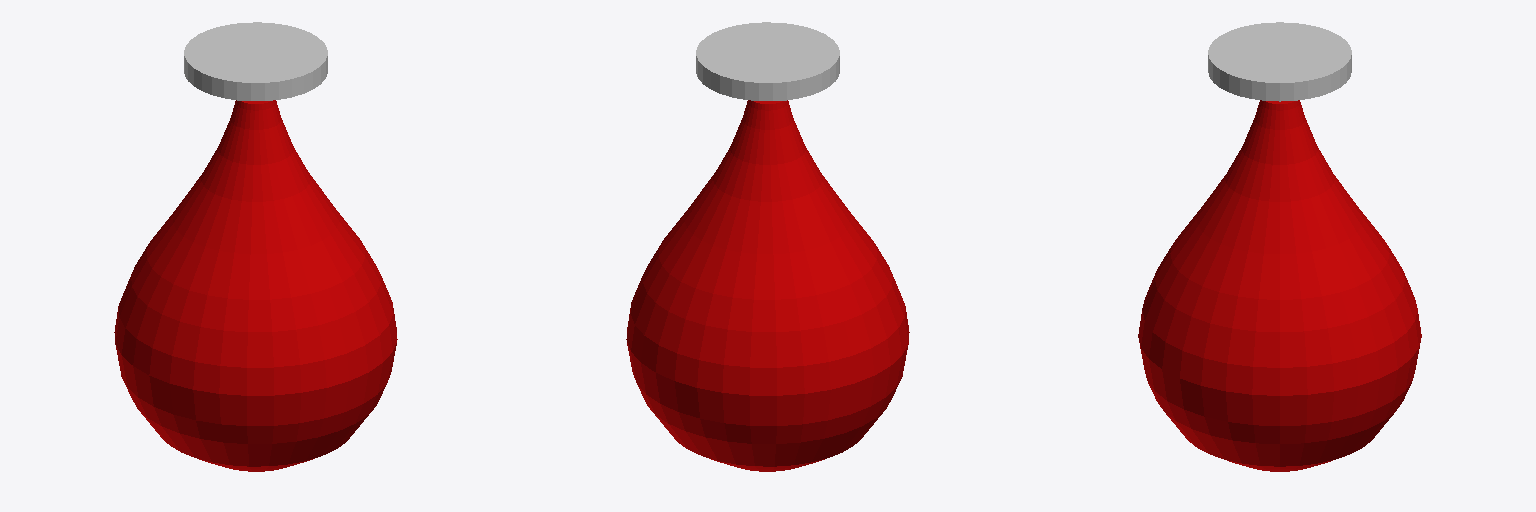
Rendered from Bag.obj.
3 renders of one model, left to right at view 1: azimuth 30°, elevation 25°; view 2: azimuth 150°, elevation 25°; view 3: azimuth 270°, elevation 25°, orthographic.
Parts seen in each view (by area): view 1: Cylinder.002_Cylinder.003, Cylinder.003_Cylinder; view 2: Cylinder.002_Cylinder.003, Cylinder.003_Cylinder; view 3: Cylinder.002_Cylinder.003, Cylinder.003_Cylinder.
Part boxes in pixels (x1,y1,x2,y2): Cylinder.002_Cylinder.003: (114, 100, 397, 471); Cylinder.003_Cylinder: (184, 22, 327, 100); Cylinder.002_Cylinder.003: (626, 100, 909, 471); Cylinder.003_Cylinder: (696, 22, 839, 100); Cylinder.002_Cylinder.003: (1138, 100, 1421, 471); Cylinder.003_Cylinder: (1208, 22, 1351, 101).
Size of the model in its own units: 0.287 by 0.4536 by 0.287.